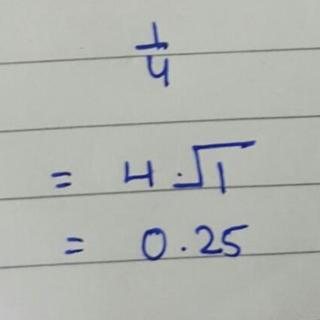.: (178, 242, 188, 257)
0: (140, 226, 169, 263)
1: (213, 160, 229, 199), (149, 16, 161, 42)
2: (192, 222, 223, 253)
4: (123, 156, 158, 191), (137, 55, 172, 88)
5: (222, 223, 248, 257)
